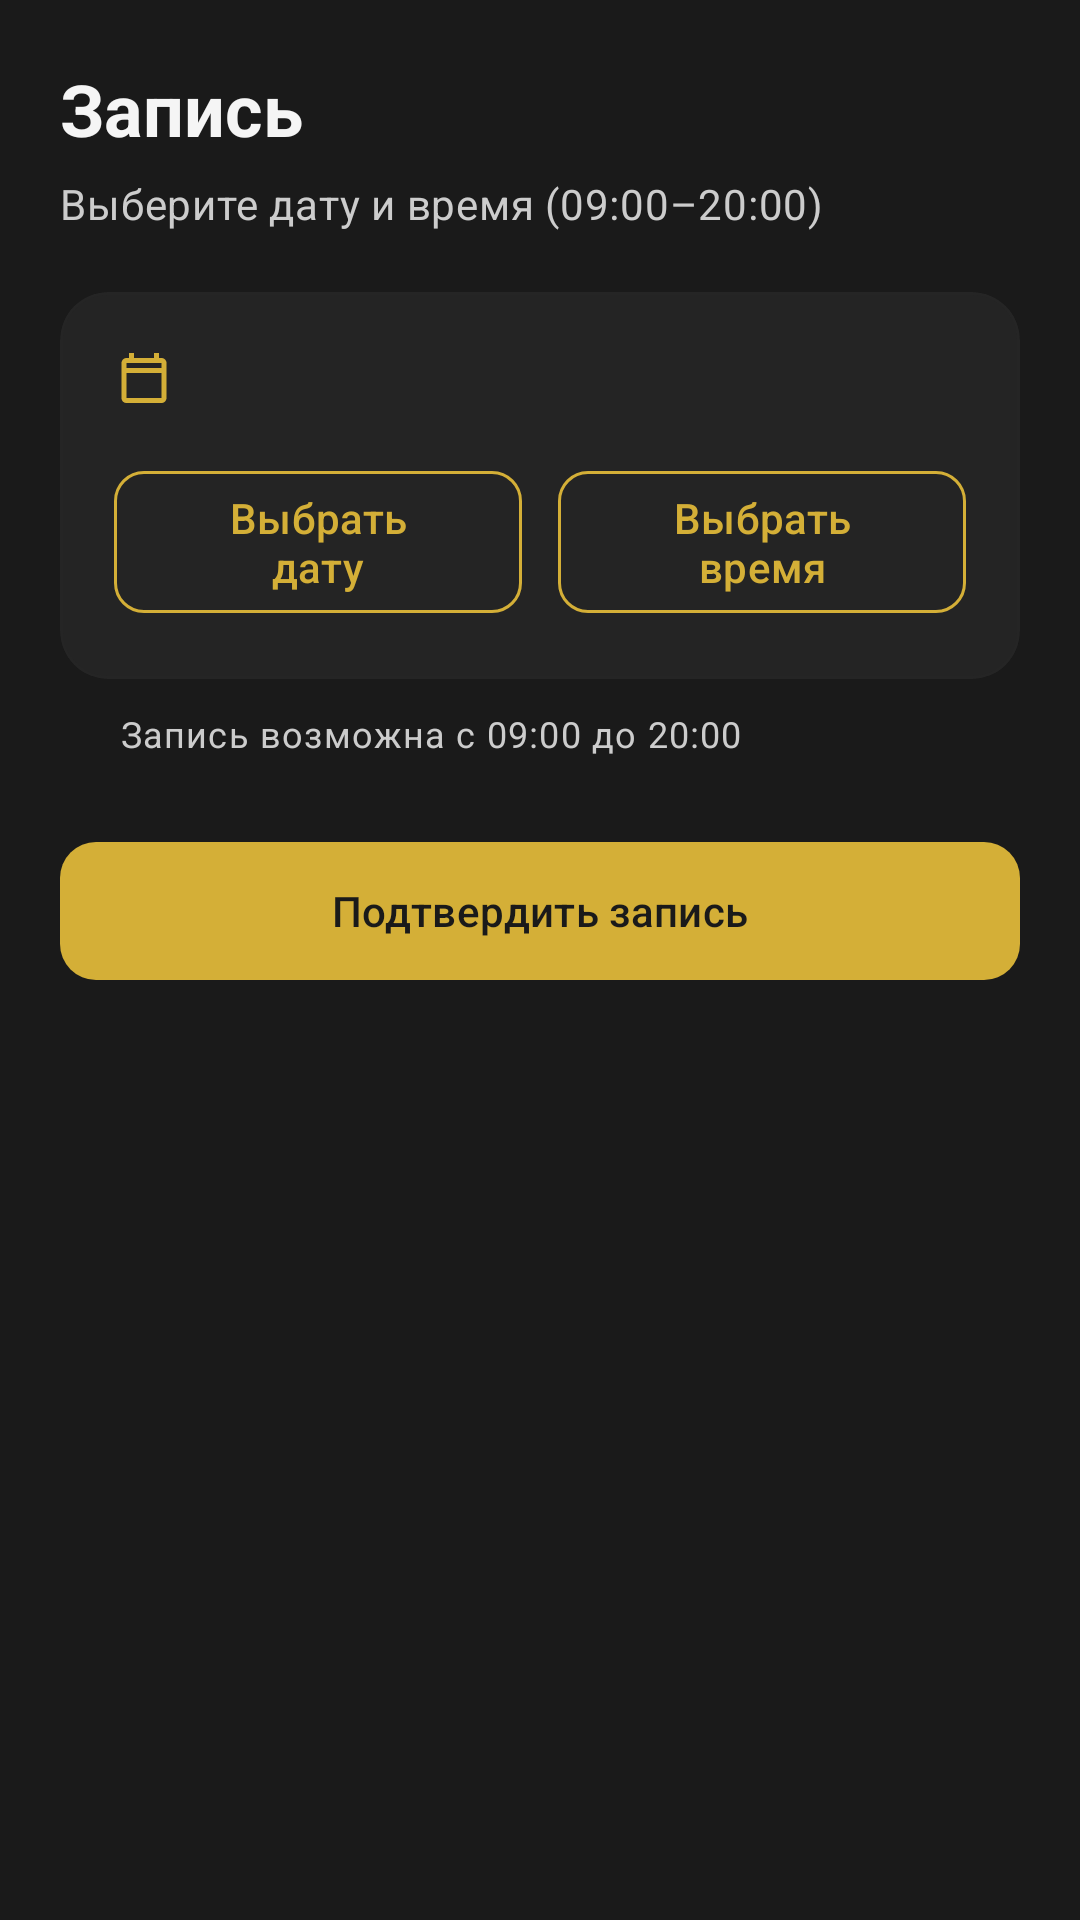

Screen size 1080*1920. Icon name, then its box in pixels as {"left": x1, "top": y1, "right": x2, "bottom": y2}:
calendar: {"left": 121, "top": 353, "right": 167, "bottom": 403}
